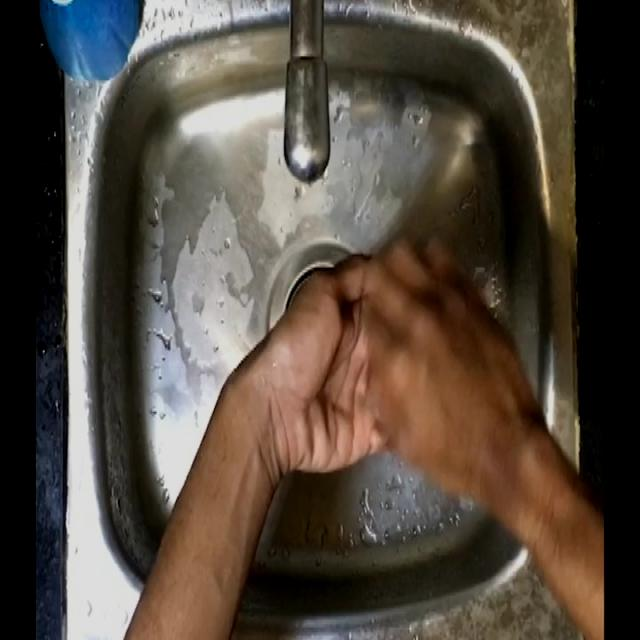step_4: (264, 225, 522, 492)
